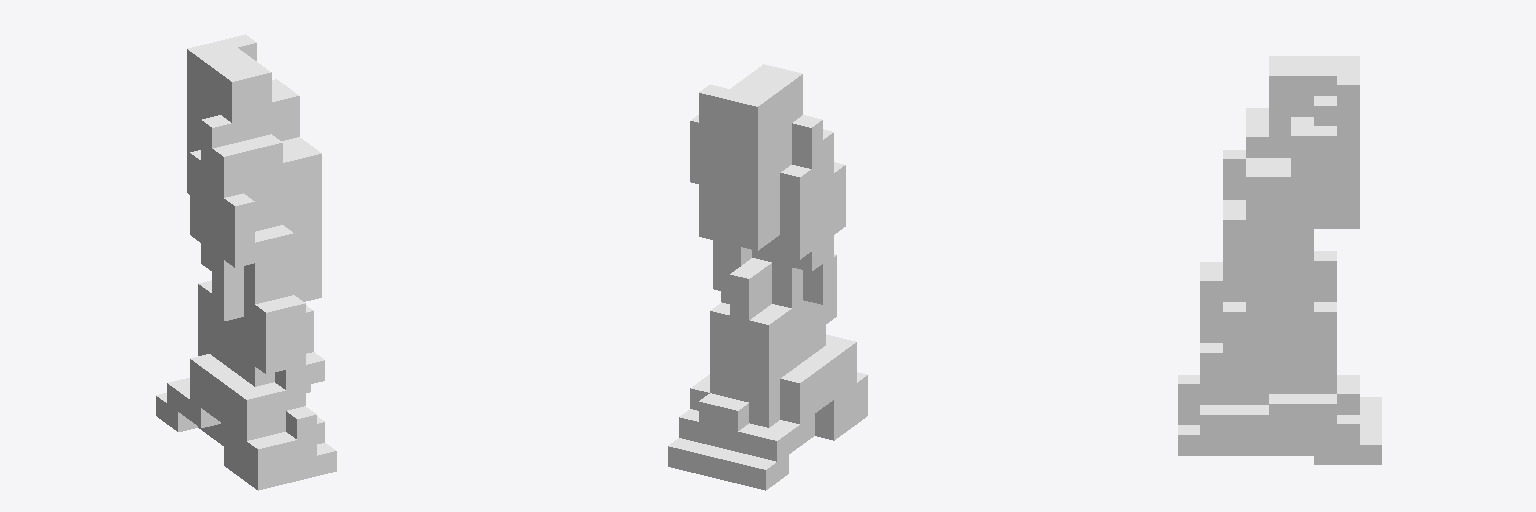
The model's file is mob1-9.obj.
The picture shows the model from 3 angles: view 1: azimuth 30°, elevation 25°; view 2: azimuth 150°, elevation 25°; view 3: azimuth 270°, elevation 25°; orthographic projection.
Parts seen in each view (by area): view 1: object 1; view 2: object 1; view 3: object 1.
Boxes of the visible parts, box(x1,y1,x2,y2) form: object 1: box(156, 34, 336, 490); object 1: box(668, 64, 867, 490); object 1: box(1178, 56, 1381, 464).
Bounding box in the file's own units: 0.5 × 1.8 × 0.9.